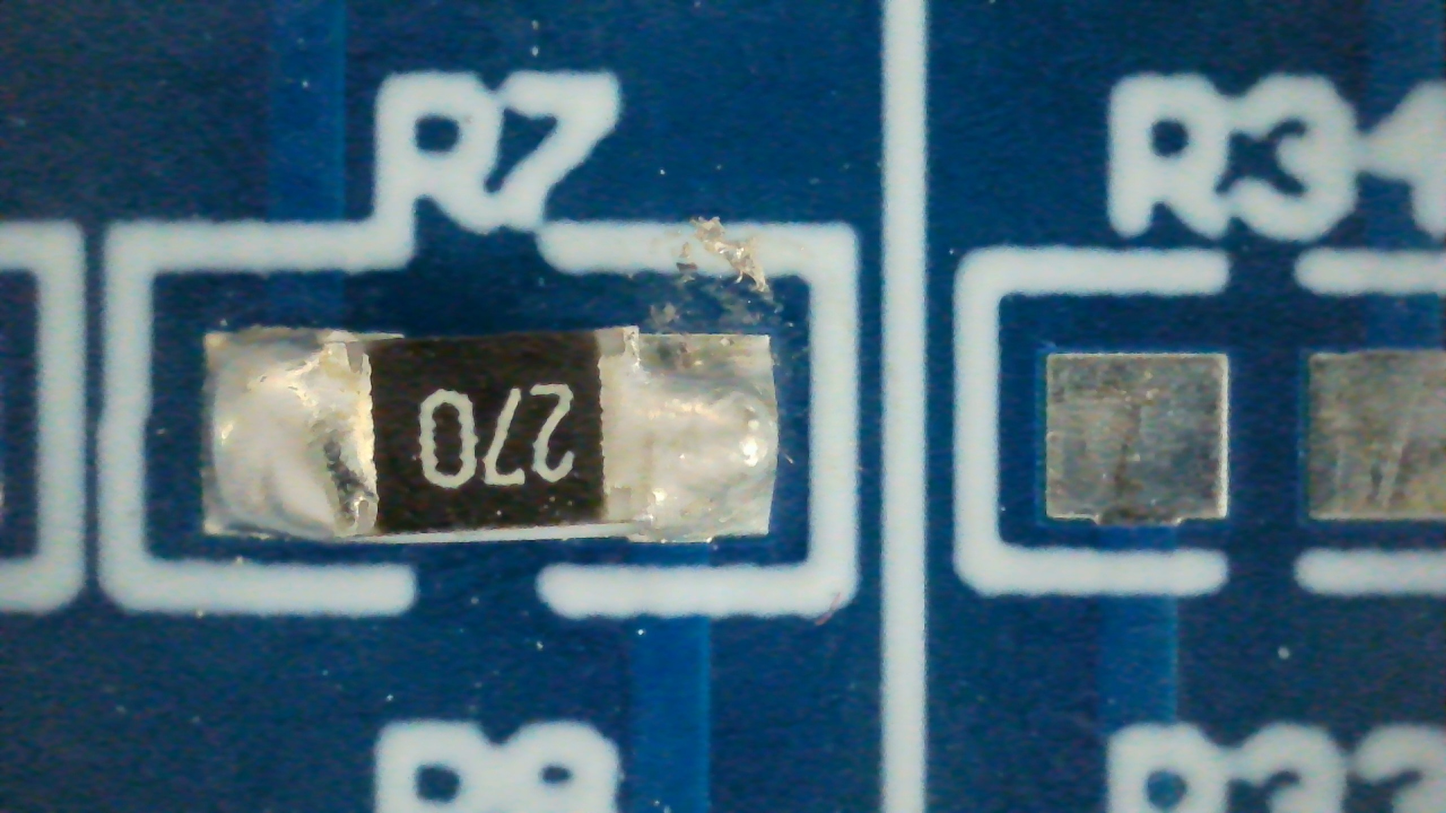OK: (200, 331, 768, 541)
